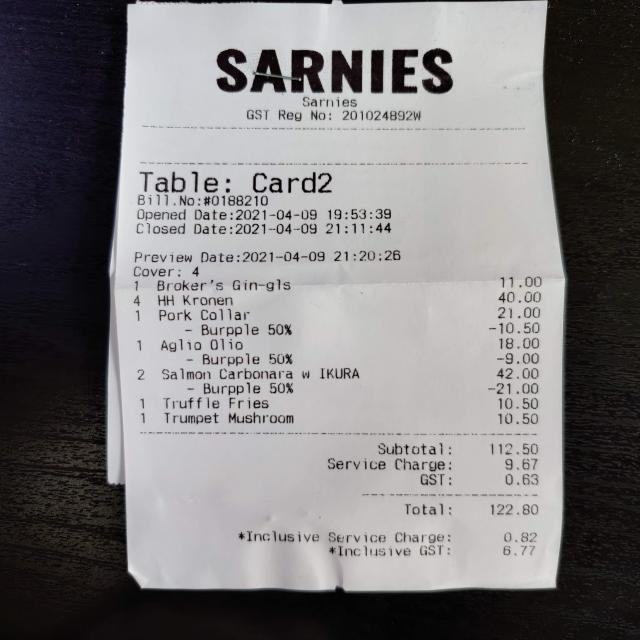bill_region: (122, 274, 552, 520)
